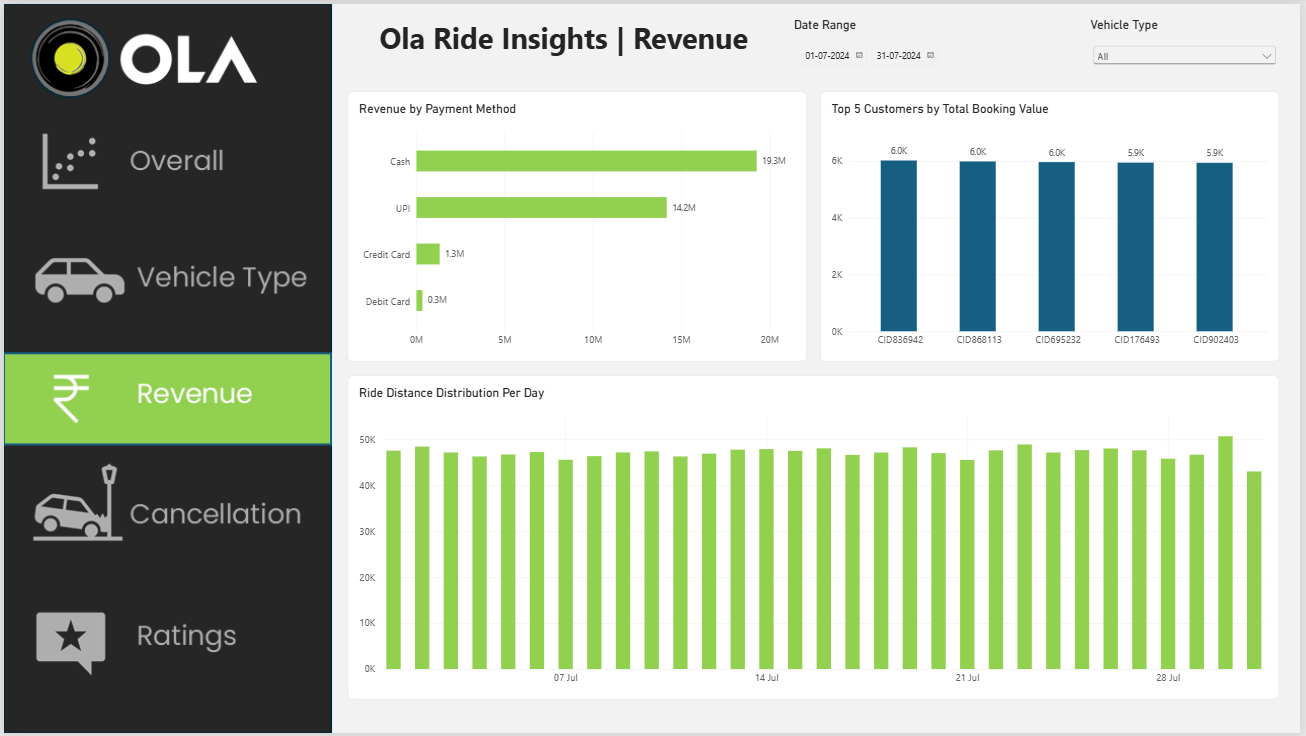

This screenshot's page, from the dashboard's own definition file:
{"tool":"powerbi","page":{"name":"Revenue","canvas":[1920,1080],"ordinal":2},"visuals":[{"type":"slicer","title":"Date Range","fields":{"Values":["ola_rides.booking_date"]},"box":[1170,20,420,90],"z":0},{"type":"slicer","title":"Vehicle Type","fields":{"Values":["ola_rides.vehicle_type"]},"box":[1610,20,280,90],"z":1000},{"type":"textbox","box":[510,20,640,90],"z":2000},{"type":"actionButton","box":[0,171,486.9,136.3],"z":3000},{"type":"actionButton","box":[0,335.9,486.6,136.2],"z":4000},{"type":"actionButton","box":[0,690,486.6,132.5],"z":5000},{"type":"actionButton","box":[0,869.7,483,136.2],"z":6000},{"type":"clusteredBarChart","title":"Revenue by Payment Method","fields":{"Category":["ola_rides.payment_method"],"Y":["ola_rides.Total Revenue"]},"box":[510,130,680,400],"z":7000},{"type":"clusteredColumnChart","title":"Top 5 Customers by Total Booking Value","fields":{"Category":["ola_rides.customer_id"],"Y":["ola_rides.Total Revenue"]},"box":[1210,130,680,400],"z":8000},{"type":"clusteredColumnChart","title":"Ride Distance Distribution Per Day","fields":{"Category":["ola_rides.booking_date"],"Y":["ola_rides.Total Distance Travelled"]},"box":[510,550,1380,480],"z":9000}]}

Visuals, with their boxes in screenshot pixels (x1, y1, x2, y2), scaled from the page's 1920x1080 canvas onto the 1306x736 screenshot:
"Date Range" slicer: region(796, 14, 1082, 75)
"Vehicle Type" slicer: region(1095, 14, 1286, 75)
textbox: region(347, 14, 782, 75)
actionButton: region(0, 117, 331, 209)
actionButton: region(0, 229, 331, 322)
actionButton: region(0, 470, 331, 561)
actionButton: region(0, 593, 329, 686)
"Revenue by Payment Method" clusteredBarChart: region(347, 89, 809, 361)
"Top 5 Customers by Total Booking Value" clusteredColumnChart: region(823, 89, 1286, 361)
"Ride Distance Distribution Per Day" clusteredColumnChart: region(347, 375, 1286, 702)
